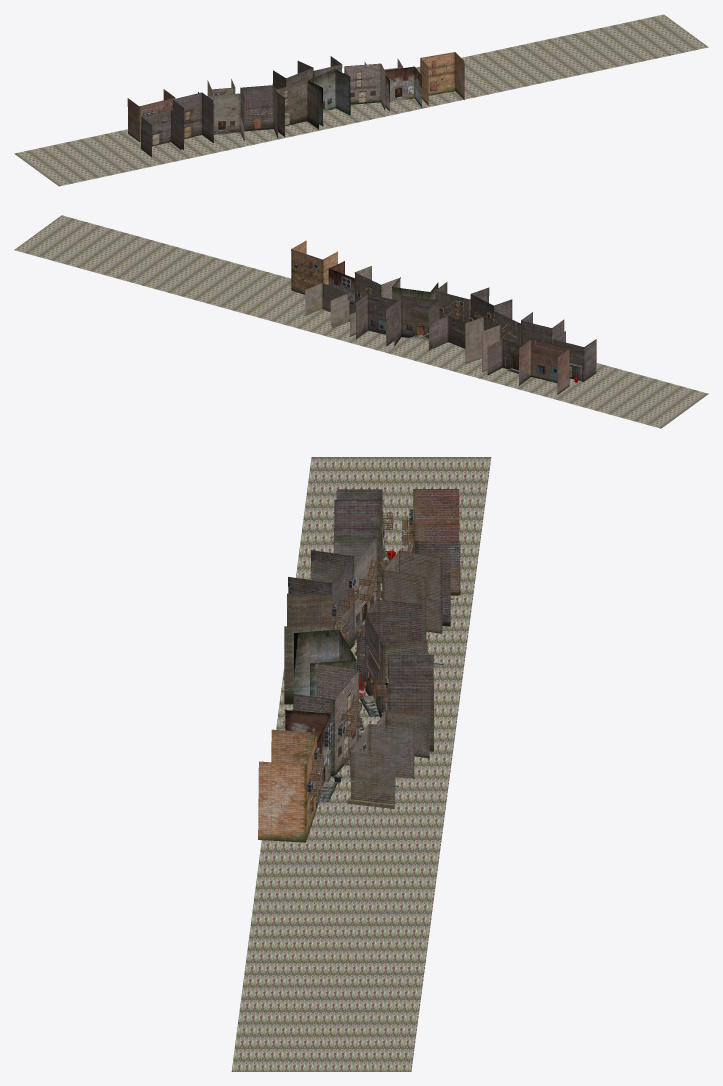
File: L11A270_Alley.fbx
3 views of the same model, one above another, from view 1: azimuth 30°, elevation 25°; view 2: azimuth 150°, elevation 25°; view 3: azimuth 270°, elevation 25° (orthographic). The views are drawn at different scales.
Visible parts, largest first — view 1: pPlane1, pCube2881, pCube1255, pCube1251, pCube1253, pCube1250, pCube1254, pCube1252, pCube1554, pCube1553, pCube917, pCube923; view 2: pPlane1, pCube917, pCube923, pCube914, pCube2881, pCube925, pCube1254, pCube916, pCube913, pCube915, pCube1251, pCube1253 (+6 smaller); view 3: pPlane1, pCube2881, pCube913, pCube925, pCube1250, pCube923, pCube914, pCube917, pCube1252, pCube1553, pCube1255, pCube1251 (+5 smaller).
Part boxes in pixels (bbox=[...]): pPlane1: bbox=[14, 14, 708, 186]; pCube2881: bbox=[420, 52, 464, 105]; pCube1255: bbox=[275, 82, 319, 136]; pCube1251: bbox=[240, 85, 277, 140]; pCube1253: bbox=[172, 92, 213, 149]; pCube1250: bbox=[344, 63, 385, 114]; pCube1254: bbox=[141, 110, 181, 156]; pCube1252: bbox=[308, 69, 350, 125]; pCube1554: bbox=[385, 66, 421, 111]; pCube1553: bbox=[207, 93, 244, 142]; pCube917: bbox=[127, 89, 175, 141]; pCube923: bbox=[272, 61, 313, 88]; pPlane1: bbox=[14, 215, 708, 428]; pCube917: bbox=[519, 339, 569, 394]; pCube923: bbox=[394, 295, 439, 350]; pCube914: bbox=[355, 294, 396, 346]; pCube2881: bbox=[291, 240, 337, 294]; pCube925: bbox=[465, 317, 500, 371]; pCube1254: bbox=[553, 331, 596, 381]; pCube916: bbox=[487, 339, 530, 385]; pCube913: bbox=[304, 283, 347, 328]; pCube915: bbox=[432, 315, 465, 362]; pCube1251: bbox=[470, 287, 512, 321]; pCube1253: bbox=[521, 312, 564, 345]; pPlane1: bbox=[231, 457, 491, 1071]; pCube2881: bbox=[258, 729, 316, 842]; pCube913: bbox=[347, 724, 413, 808]; pCube925: bbox=[383, 550, 442, 640]; pCube1250: bbox=[293, 662, 358, 776]; pCube923: bbox=[365, 611, 427, 717]; pCube914: bbox=[388, 654, 433, 751]; pCube917: bbox=[413, 489, 459, 595]; pCube1252: bbox=[294, 629, 356, 697]; pCube1553: bbox=[311, 536, 376, 640]; pCube1255: bbox=[284, 593, 332, 704]; pCube1251: bbox=[288, 550, 354, 649].
Size of the model in its own units: 315 by 21.52 by 56.23.
